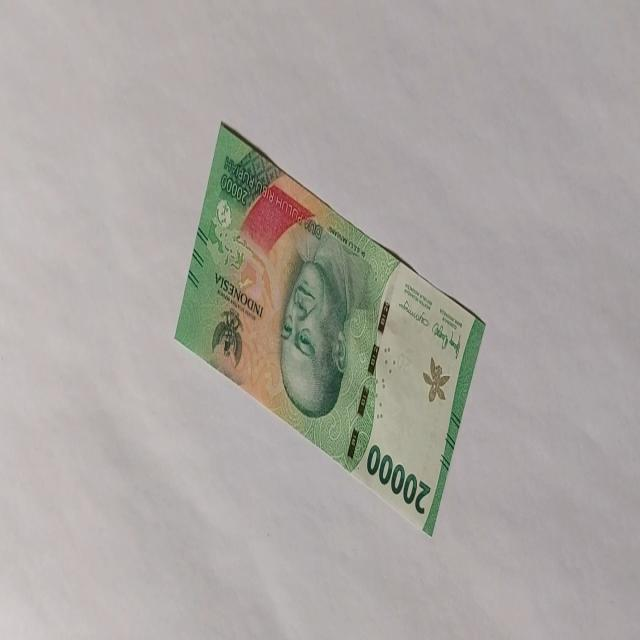dua puluh ribu rupiah: (174, 119, 486, 537)
